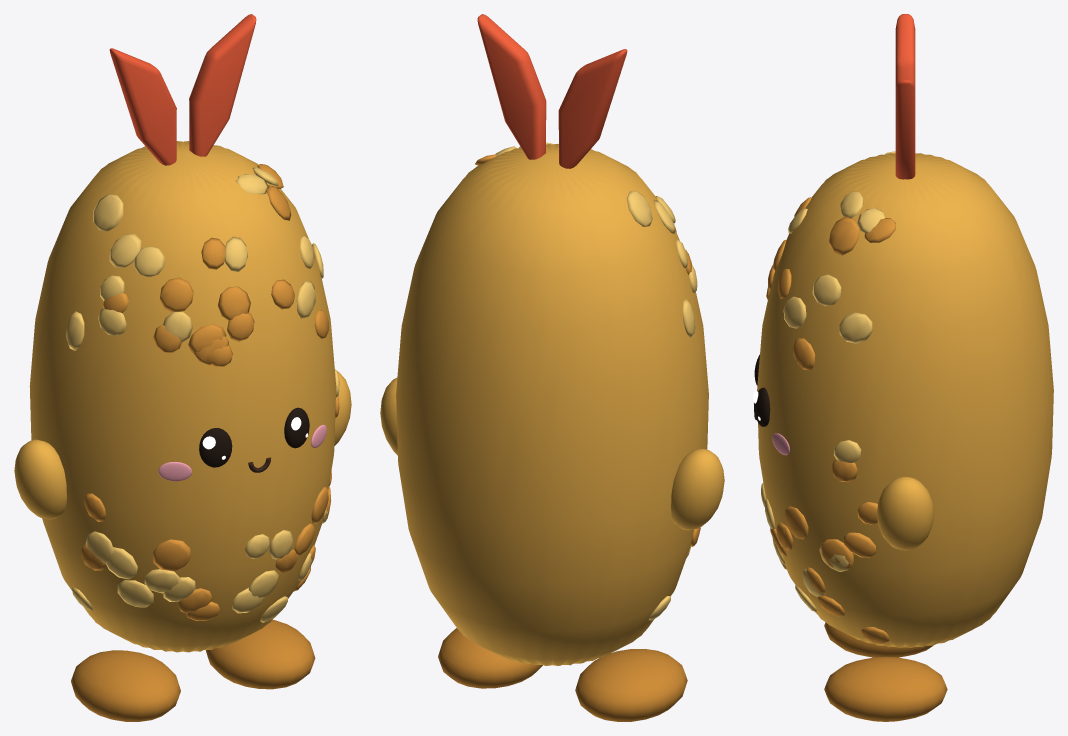
The model's file is shrimp.glb.
3 renders of one model, left to right at view 1: azimuth 30°, elevation 25°; view 2: azimuth 150°, elevation 25°; view 3: azimuth 270°, elevation 25°, orthographic. The views are drawn at different scales.
Visible parts, largest first — view 1: shrimp; view 2: shrimp; view 3: shrimp.
Boxes of the visible parts, bbox=[...] form: shrimp: bbox=[14, 14, 351, 721]; shrimp: bbox=[380, 14, 724, 721]; shrimp: bbox=[753, 14, 1053, 721].
Bounding box in the file's own units: 0.0563 × 0.1073 × 0.046.
